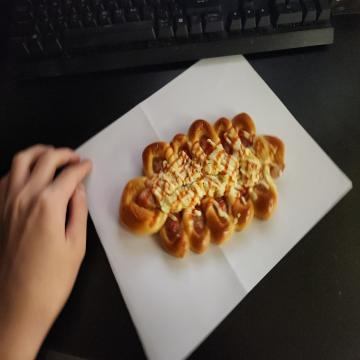pizza_bread: (122, 112, 286, 253)
